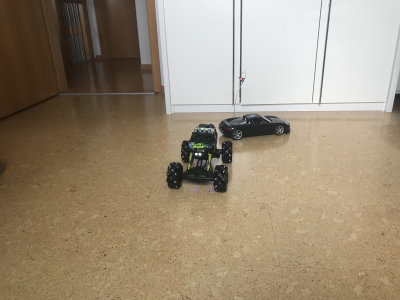remote control car: (166, 122, 234, 193)
